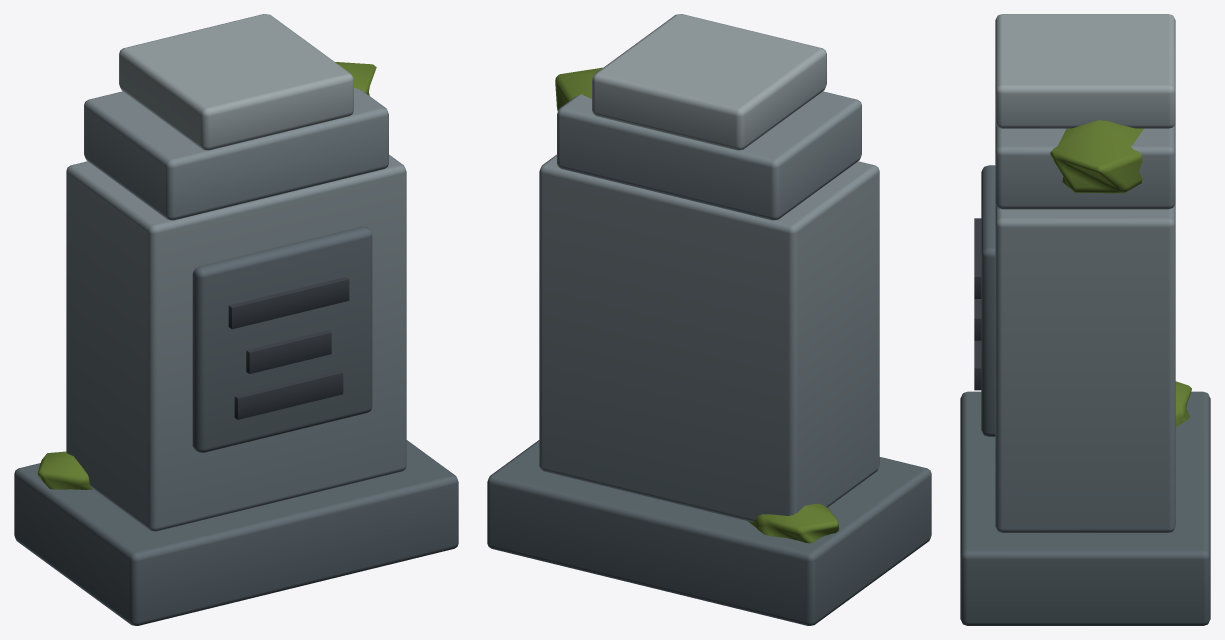
The model's file is milestone.glb.
3 renders of one model, left to right at view 1: azimuth 30°, elevation 25°; view 2: azimuth 150°, elevation 25°; view 3: azimuth 270°, elevation 25°, orthographic. The views are drawn at different scales.
Parts seen in each view (by area): view 1: milestone, milestone_trim; view 2: milestone; view 3: milestone, milestone_trim.
Part boxes in pixels (x1,y1,x2,y2): milestone: [14, 14, 458, 625]; milestone_trim: [228, 277, 349, 419]; milestone: [487, 14, 931, 625]; milestone: [960, 14, 1210, 625]; milestone_trim: [974, 218, 981, 390].
Bounding box in the file's own units: 0.56 × 0.79 × 0.36.
